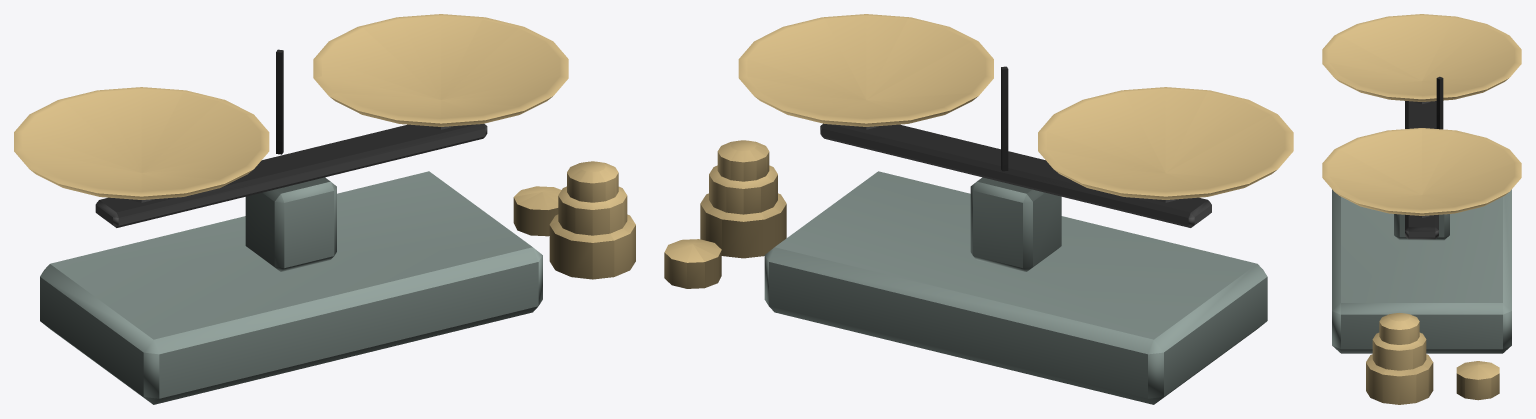
The model's file is shop_scales.glb.
3 renders of one model, left to right at view 1: azimuth 30°, elevation 25°; view 2: azimuth 150°, elevation 25°; view 3: azimuth 270°, elevation 25°, orthographic. The views are drawn at different scales.
Visible parts, largest first — view 1: static; view 2: static; view 3: static.
Boxes of the visible parts, x1,y1,x2,y2 form: static: (14, 14, 635, 404); static: (664, 14, 1293, 404); static: (1322, 14, 1521, 404).
Size of the model in its own units: 0.47 by 0.2 by 0.1773.
